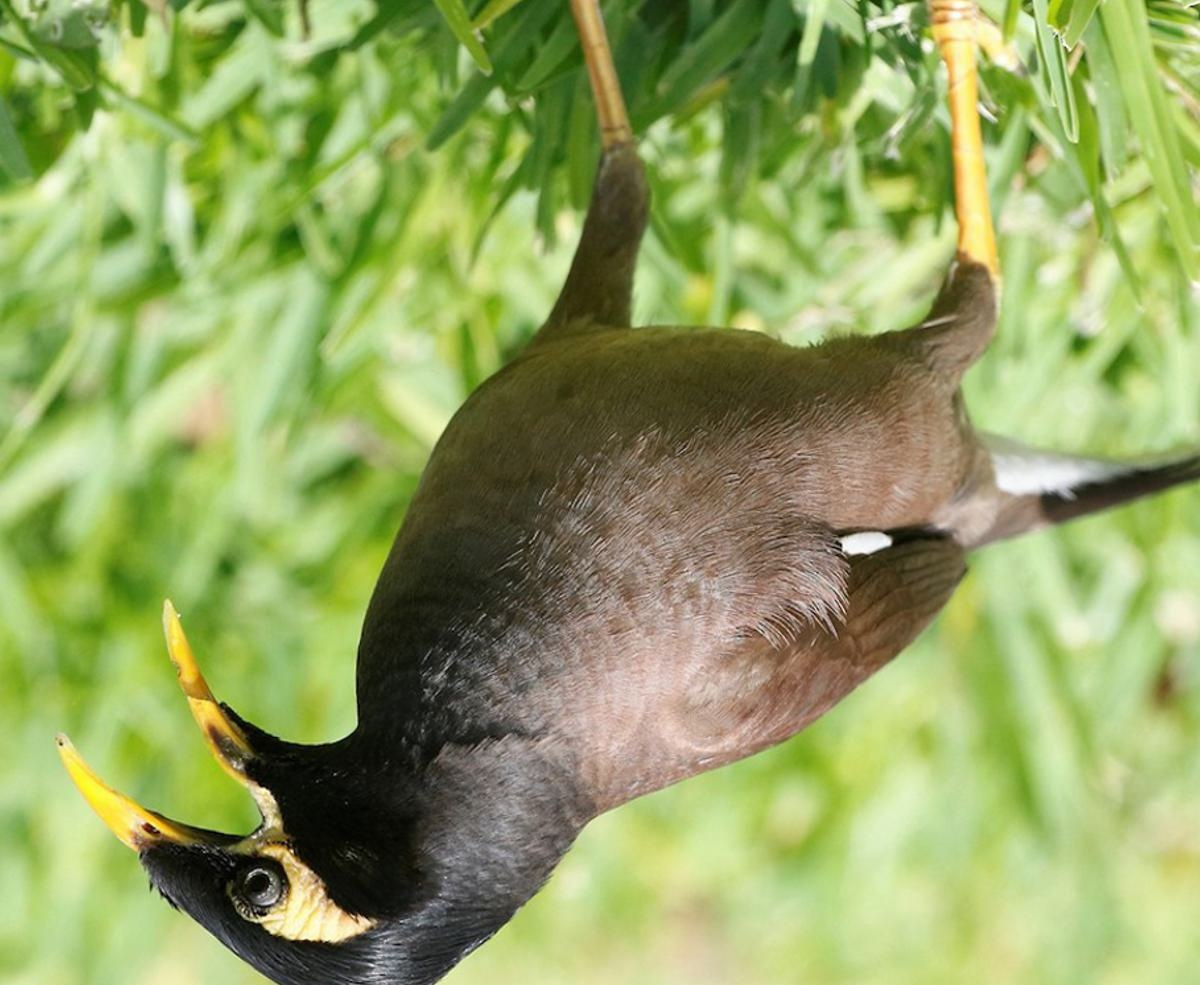myna: (81, 146, 1092, 977)
